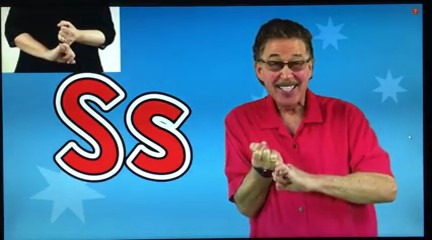S: (241, 133, 320, 207)
